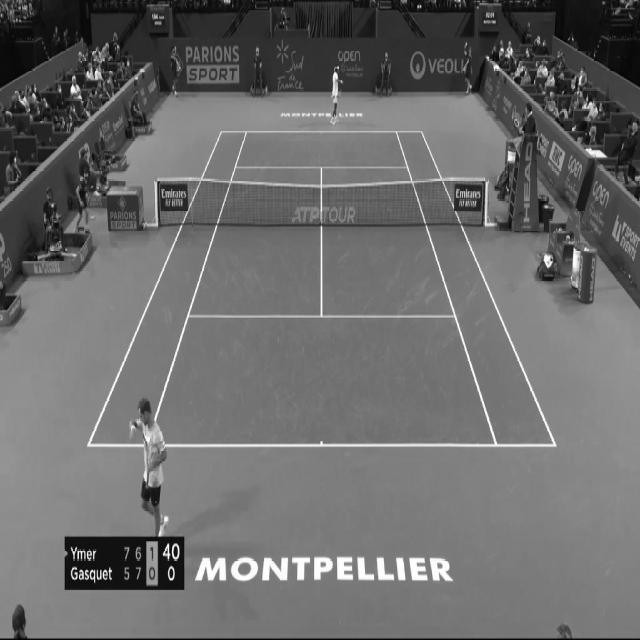tennis-court: (87, 131, 557, 447)
